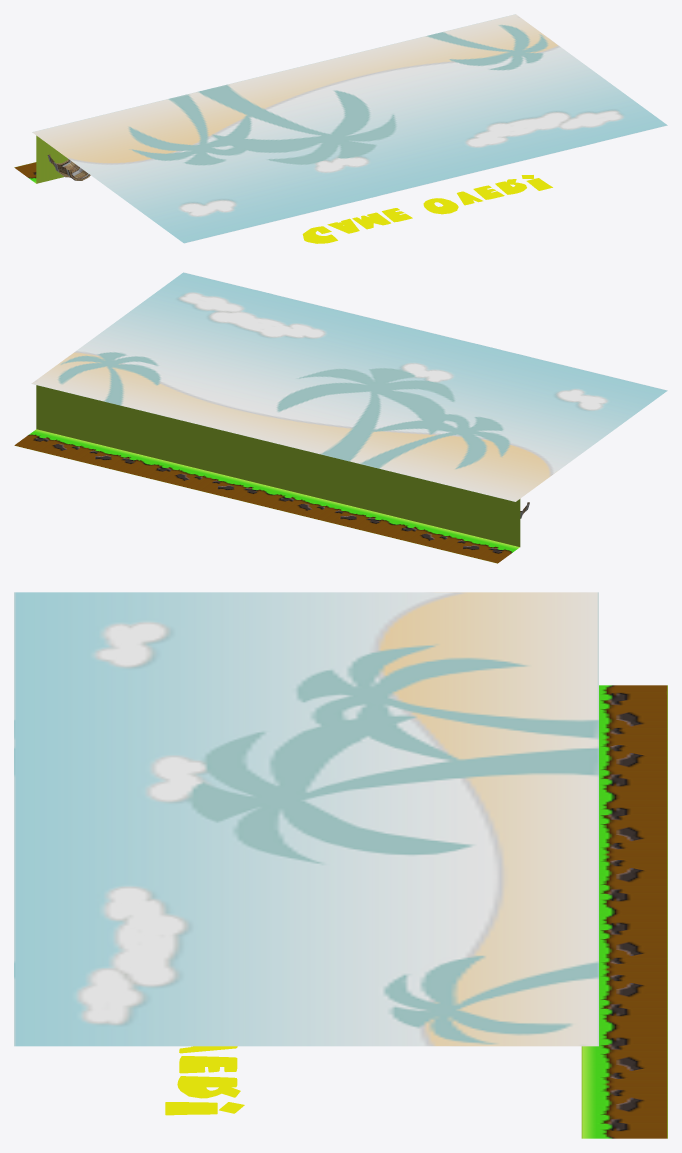
File: game.obj
3 renders of one model, top to bottom at view 1: azimuth 30°, elevation 25°; view 2: azimuth 150°, elevation 25°; view 3: azimuth 270°, elevation 25°, orthographic. The views are drawn at different scales.
Parts seen in each view (by area): view 1: forest, gameover, ground, steel_barrel_barrel.001; view 2: forest, ground; view 3: forest, ground, gameover.
Boxes of the visible parts, x1,y1,x2,y2 form: forest: (32, 14, 667, 243); gameover: (302, 175, 552, 243); ground: (14, 135, 67, 183); steel_barrel_barrel.001: (47, 154, 90, 180); forest: (31, 272, 667, 501); ground: (14, 385, 520, 563); forest: (14, 592, 598, 1046); ground: (581, 685, 667, 1138); gameover: (165, 1046, 244, 1115).
Size of the model in its own units: 20.93 by 3 by 12.74.
